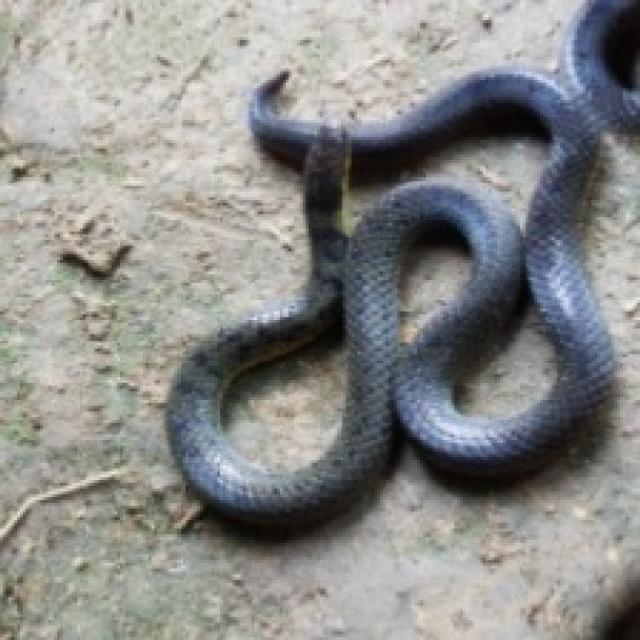luzon dwarf snake: (166, 0, 637, 526), (331, 111, 551, 243), (220, 311, 349, 471), (451, 280, 560, 417), (394, 223, 471, 360)
